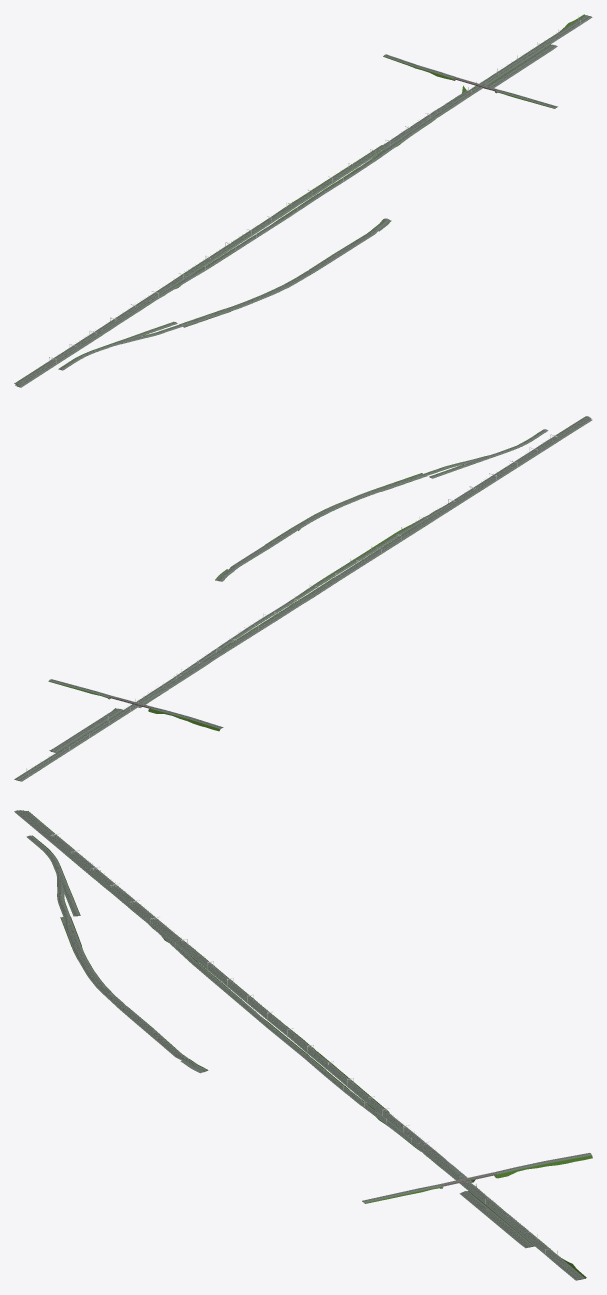
The model's file is RailWayWorkshop - Copy.fbx.
The picture shows the model from 3 angles, top to bottom: view 1: azimuth 30°, elevation 25°; view 2: azimuth 210°, elevation 25°; view 3: azimuth 270°, elevation 25°; orthographic projection. The views are drawn at different scales.
Visible parts, largest first — view 1: OpenRail.001, OpenRail.003, OpenRail.002; view 2: OpenRail.001, OpenRail.003, OpenRail.002; view 3: OpenRail.001, OpenRail.003, OpenRail.002.
Part boxes in pixels (x1,y1,x2,y2): OpenRail.001: [14, 218, 391, 387]; OpenRail.003: [383, 14, 592, 117]; OpenRail.002: [243, 113, 440, 235]; OpenRail.001: [215, 416, 592, 581]; OpenRail.003: [14, 679, 223, 781]; OpenRail.002: [167, 564, 363, 682]; OpenRail.001: [14, 810, 254, 1073]; OpenRail.003: [362, 1148, 592, 1280]; OpenRail.002: [247, 998, 431, 1155].
Size of the model in its own units: 150989 by 1988 by 77825.
Materials: 12 (10 with a texture image).
